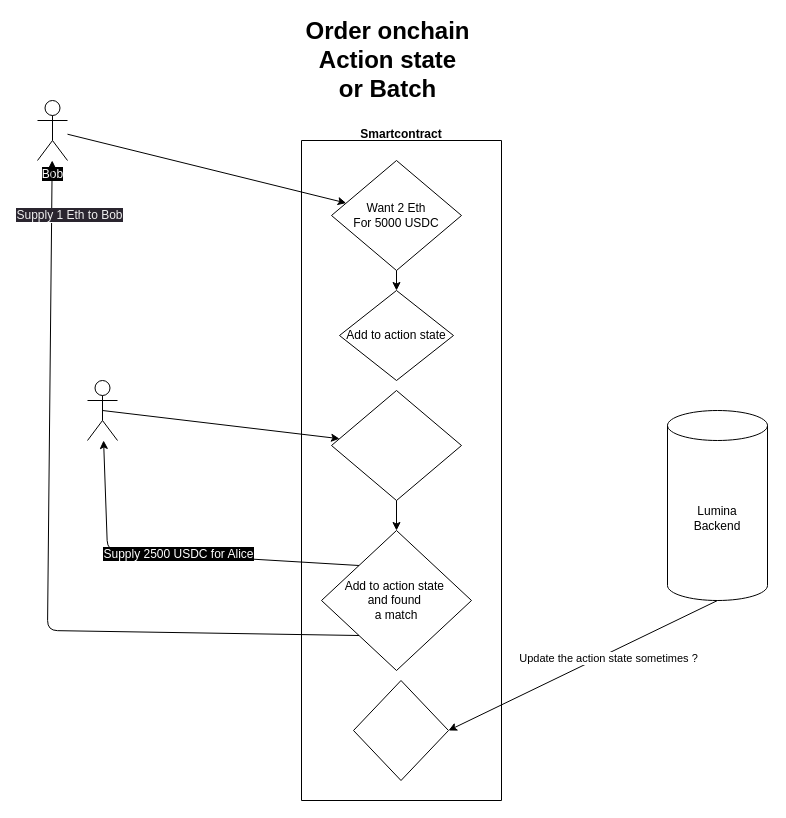
Some shapes in this 786 by 818 pixel diagram are drawn without their labels. The shapes that lost their labels are listed below. From the top down, each one's centre as x and y in pixels, then its label:
At [102,410]: "Alice".
At [396,445]: "Sell 1 ETH For 2500 USDC".
At [400,730]: "Settle the state".
